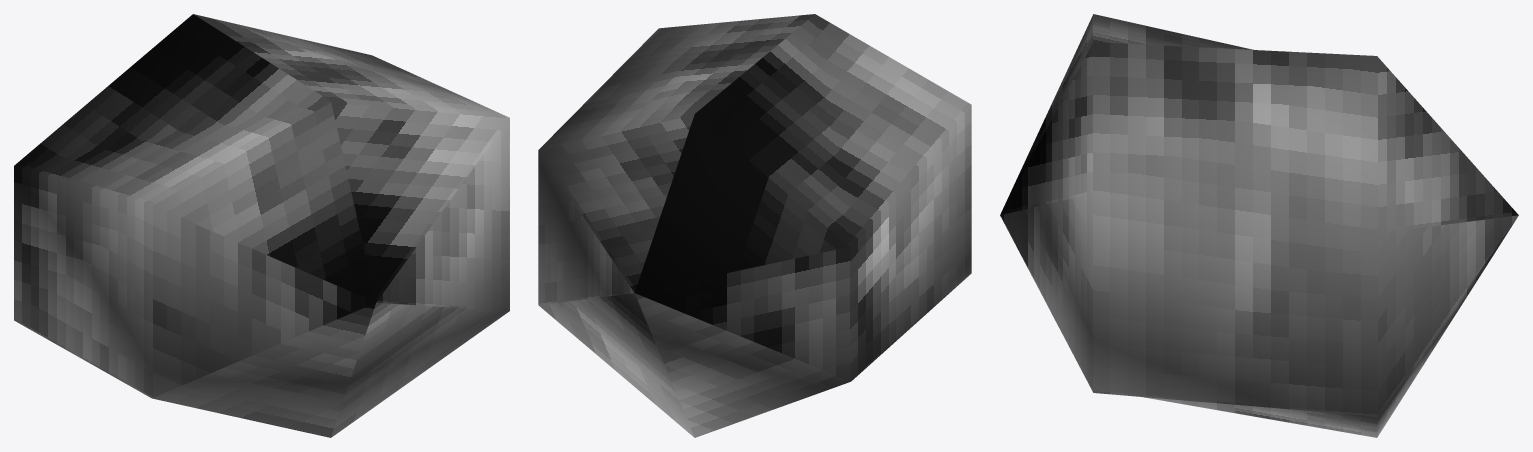
Rendered from ice_stone00.glb.
3 views of the same model, side by side, from view 1: azimuth 30°, elevation 25°; view 2: azimuth 150°, elevation 25°; view 3: azimuth 270°, elevation 25° (orthographic). The views are drawn at different scales.
Visible parts, largest first — view 1: model_ice_stone00; view 2: model_ice_stone00; view 3: model_ice_stone00.
Boxes of the visible parts, x1,y1,x2,y2 form: model_ice_stone00: [14, 14, 509, 437]; model_ice_stone00: [538, 14, 971, 437]; model_ice_stone00: [1000, 14, 1518, 437].
Bounding box in the file's own units: 0.0165 × 0.0169 × 0.0201.
Materials: 1 (1 with a texture image).
